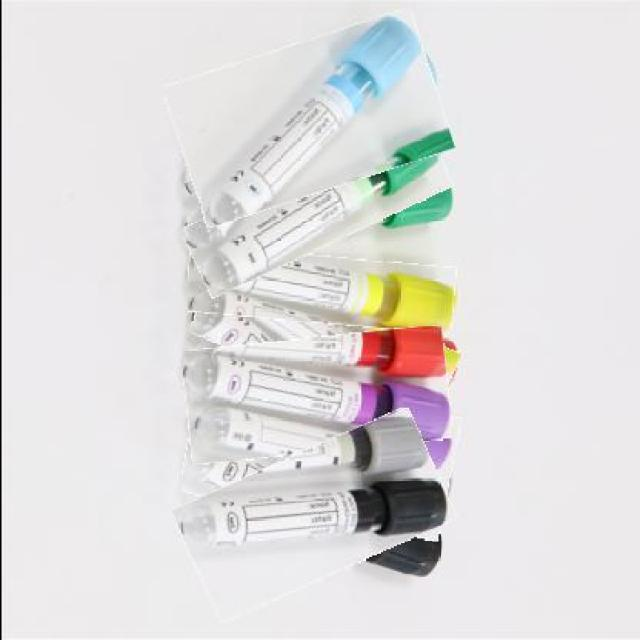Experimental-tube: (168, 25, 446, 208), (176, 430, 449, 598), (183, 380, 455, 529), (190, 272, 456, 411), (182, 145, 450, 272), (182, 331, 448, 457), (185, 252, 453, 328)
